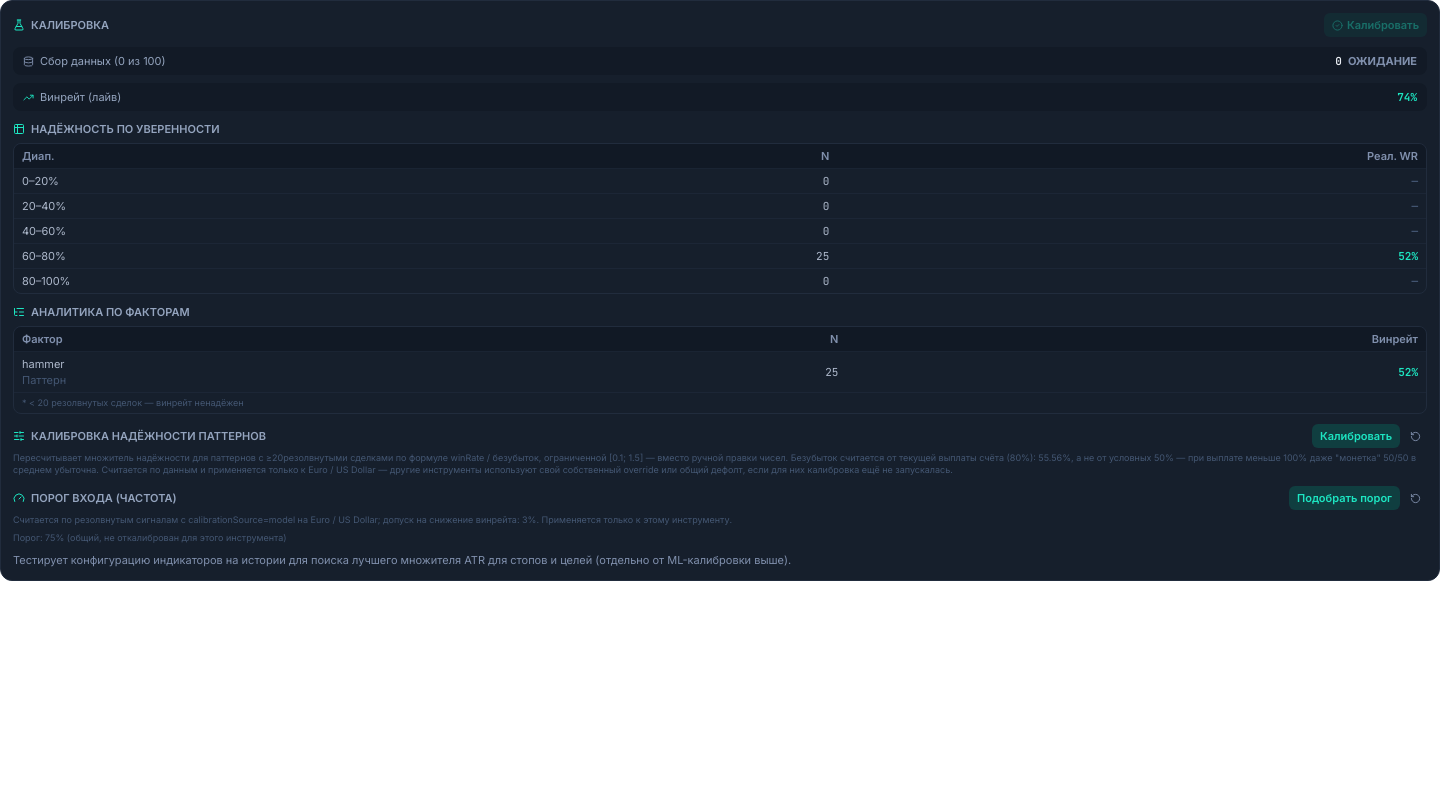
Test: CalibrationPanel — threshold recommendation baseline is per-symbol, not global › does not let a much stronger sibling instrument inflate the baseline for a weaker one
Click the button "Подобрать порог". click: (1344, 498)
box: [1289, 486, 1400, 510]
(page scrolled)
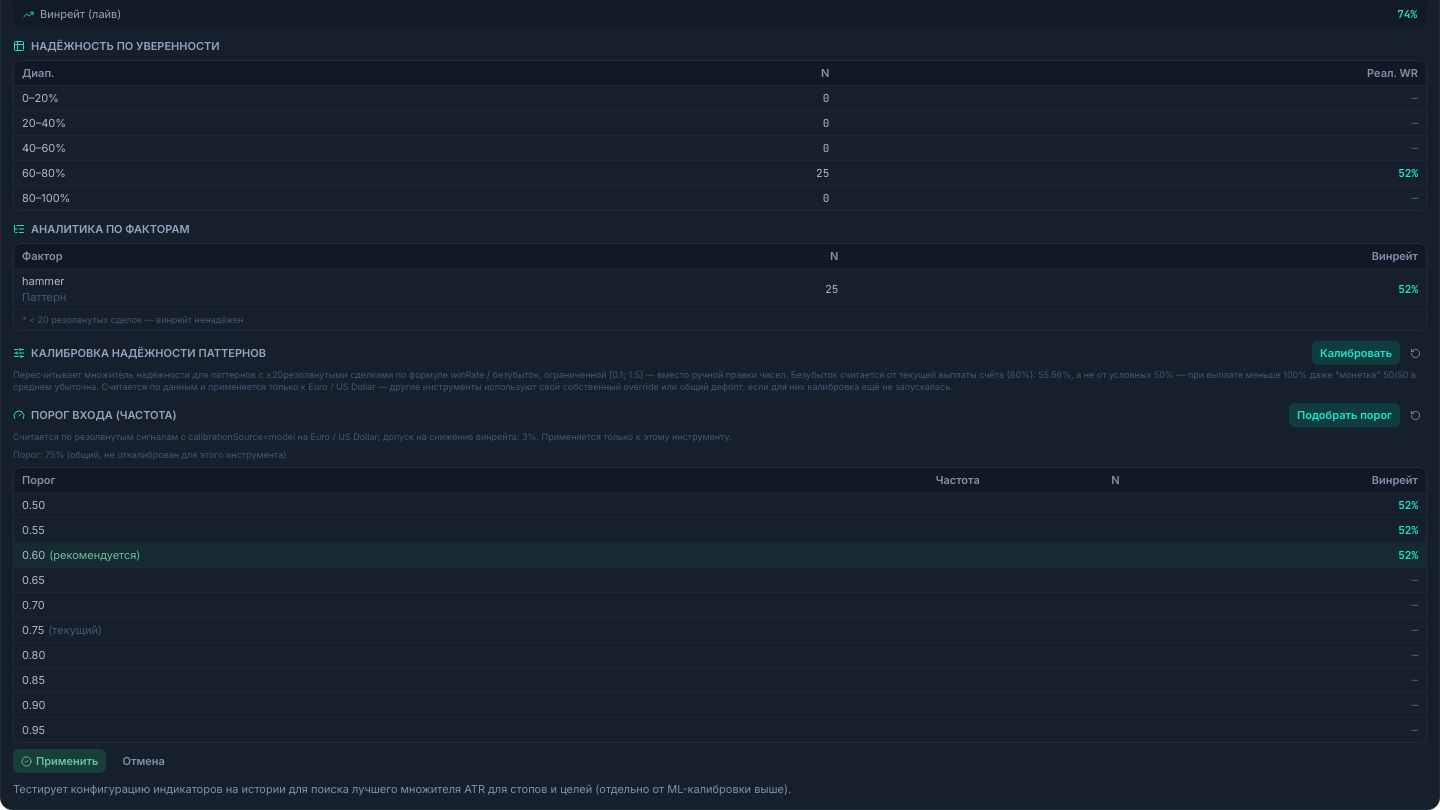
Now the button "Применить" is shown, box [13, 749, 106, 773]
